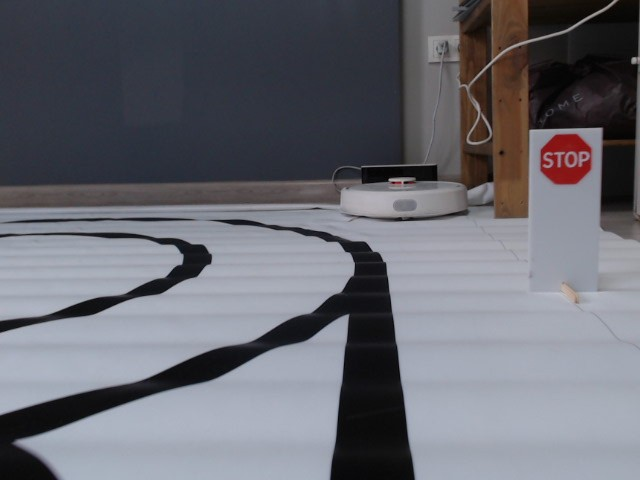Stop: (539, 133, 593, 187)
